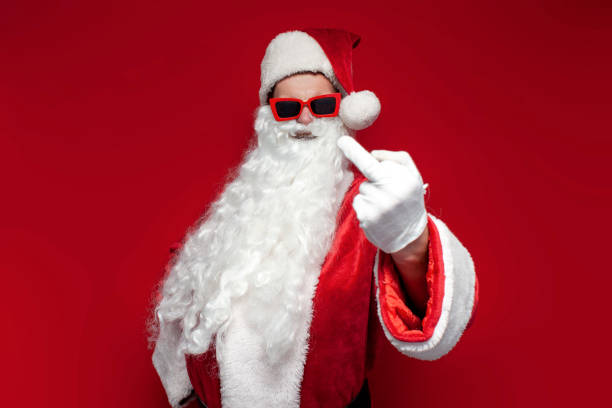insulting_gesture: (336, 134, 426, 252)
